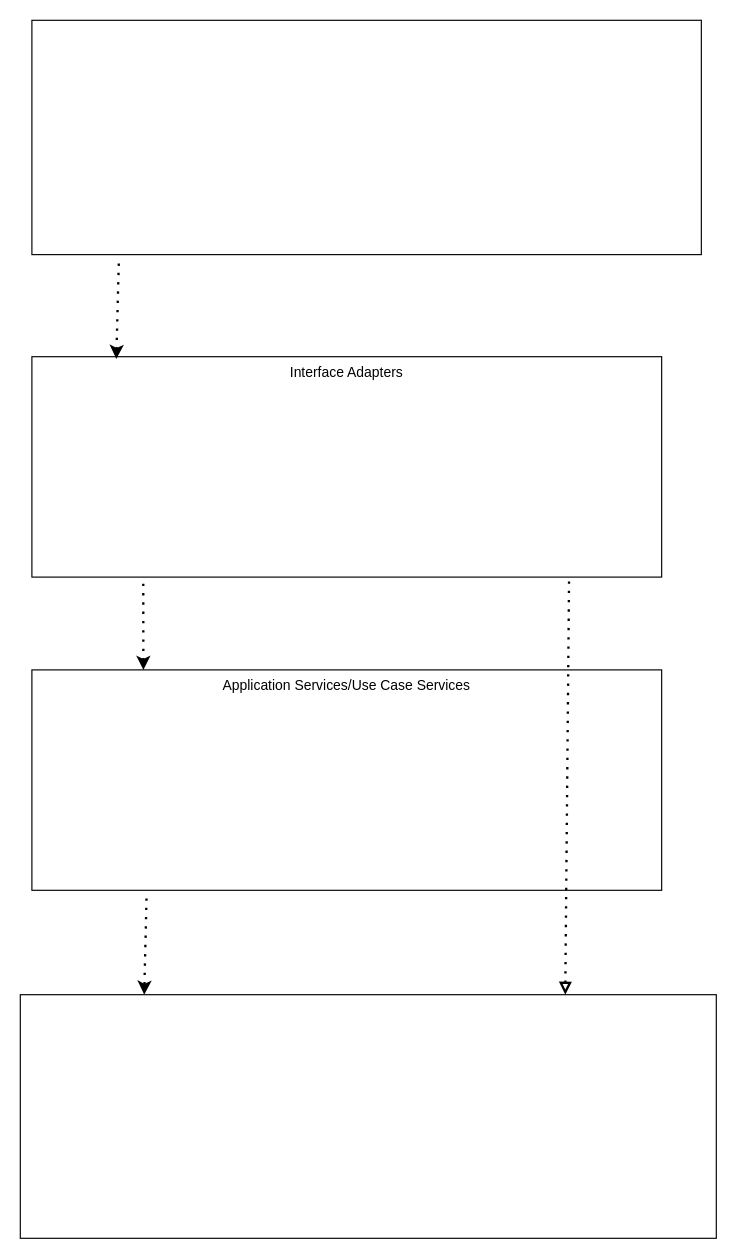
Some shapes in this 737 by 1259 pixel diagram are drawn without their labels. Each missing label, with the centre of its shape:
"Entities/Core/Domain" goes at pixel 367 1116.
"Infraescture" goes at pixel 366 137.
